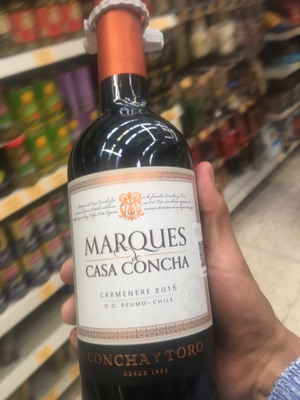marques de casa concha carmenere: (57, 11, 229, 376)
